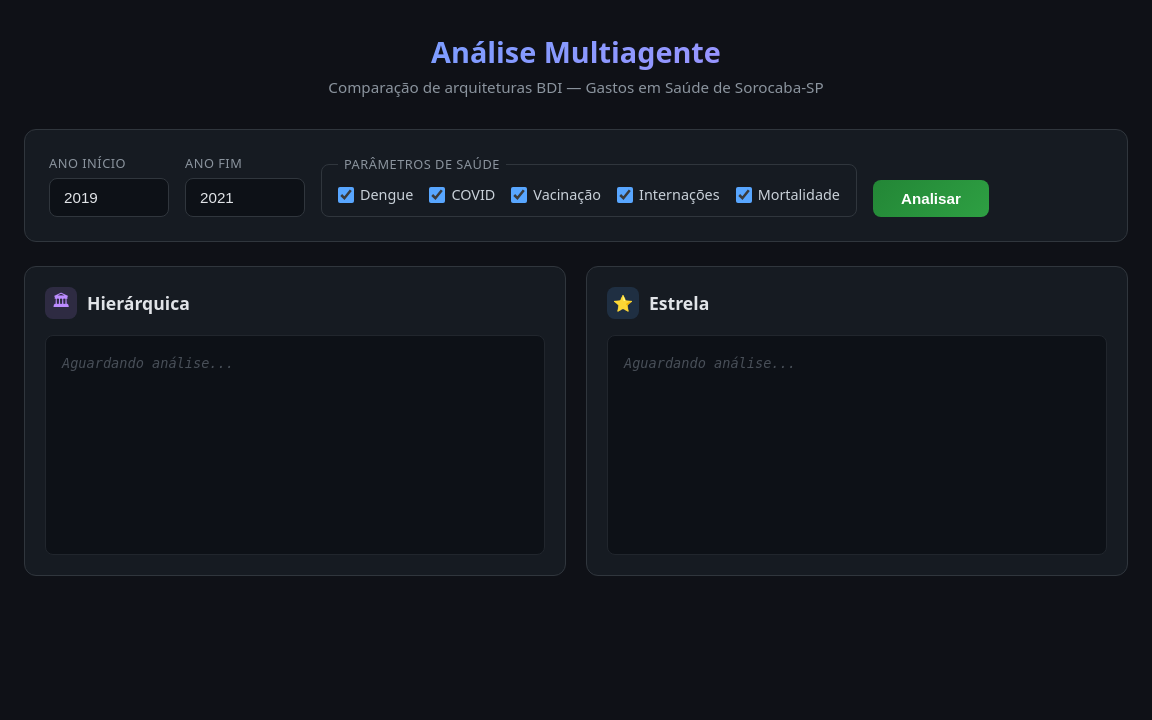
Test case: App › shows API error when POST fails
What coordinates should you click on to do the following:
click the button with test id "submit-button"
I would click on:
 (931, 198)
Its box is [873,180,989,217].
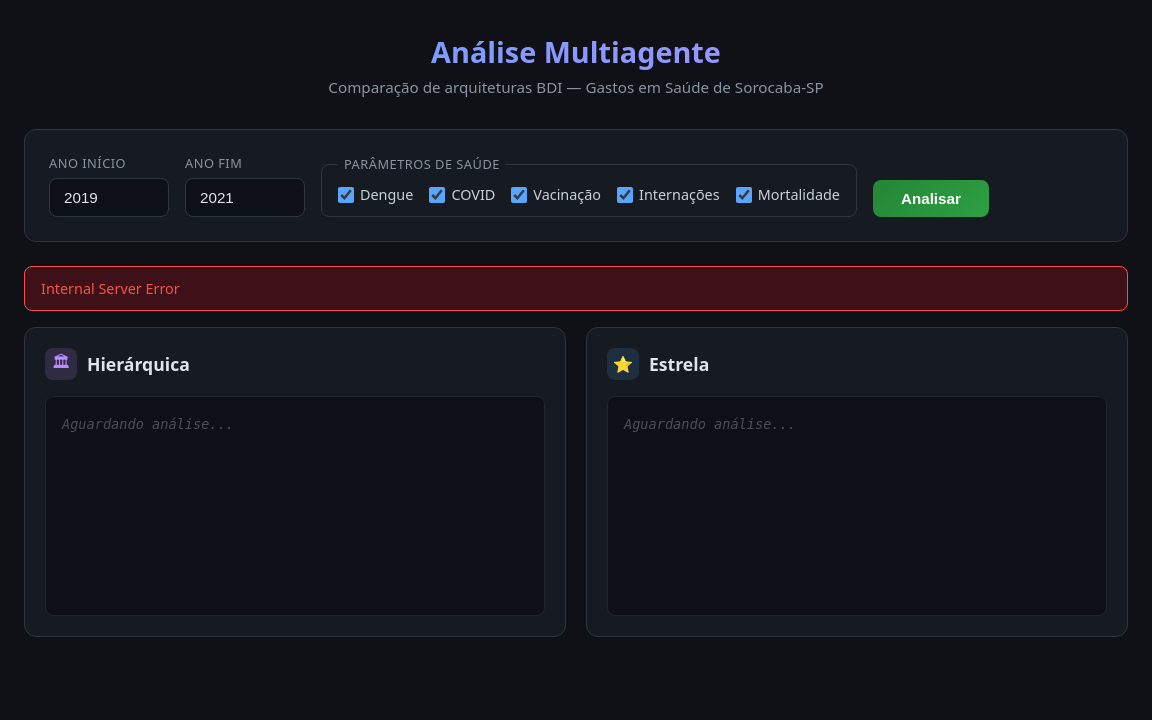
Expected: the message "Internal Server Error" is shown, [24,266,1128,311]
Expected: the message with test id "api-error" reads "Internal Server Error", [41,279,180,298]
